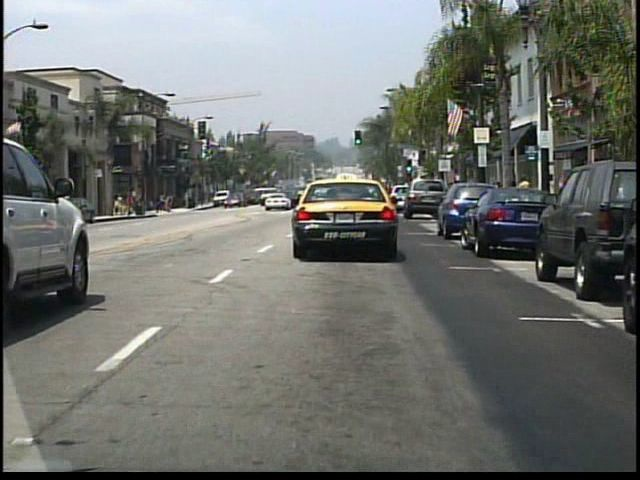person: (516, 173, 532, 214), (148, 190, 158, 212)
